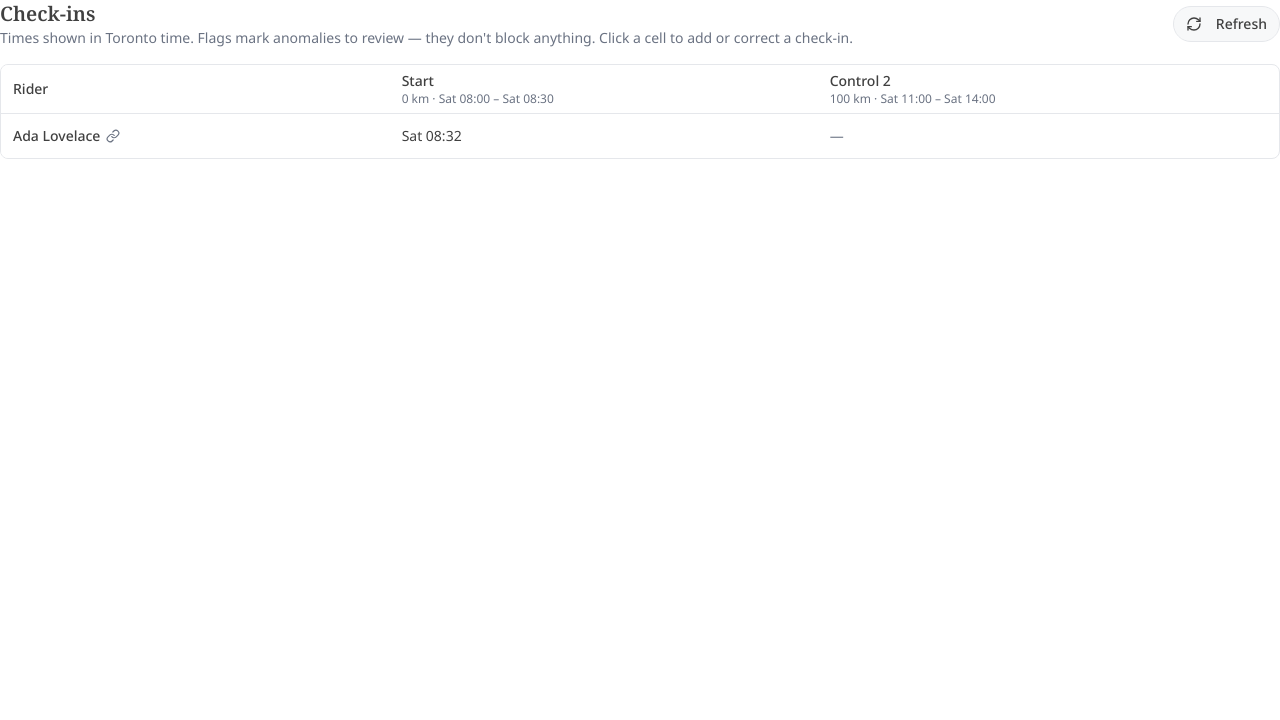
Test: EventCheckinsGrid correction dialog map › shows the no-GPS cause, acquisition stage, timing, and context when recorded
Click the text "Sat 08:32" at (432, 135), box [402, 126, 462, 144]
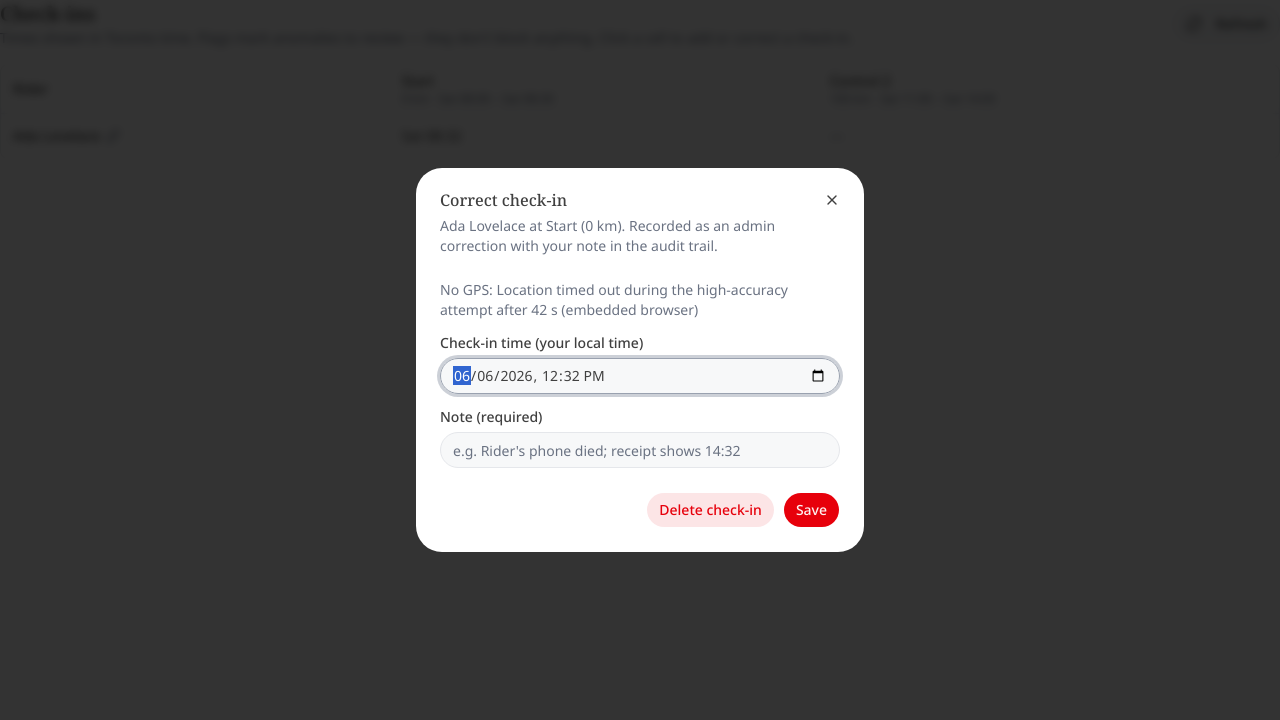
Expected: the text "No GPS: Location timed out during the high-accuracy attempt after 42 s (embedded browser)" is shown, [440, 280, 788, 319]
